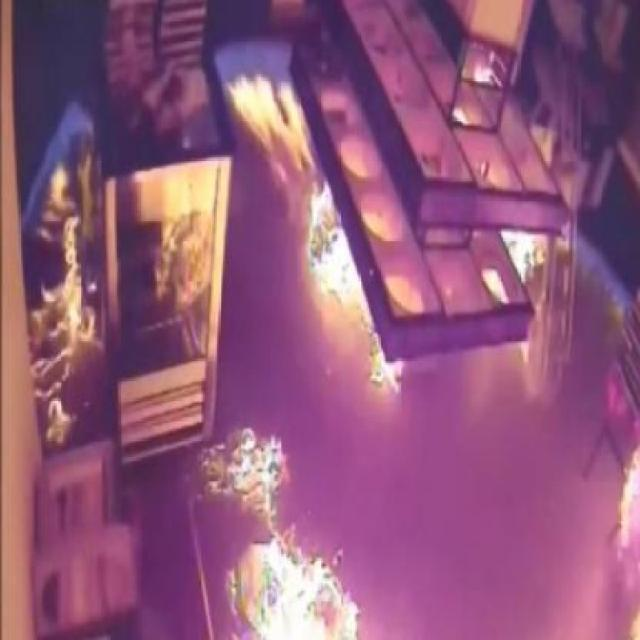Fire: (261, 546, 357, 640), (232, 426, 286, 497), (312, 232, 360, 296), (498, 220, 546, 276), (60, 221, 82, 334), (369, 346, 403, 391), (311, 184, 337, 221), (40, 278, 68, 308), (624, 446, 640, 494), (264, 502, 281, 544), (484, 266, 504, 300), (618, 500, 630, 546), (478, 62, 493, 87)
